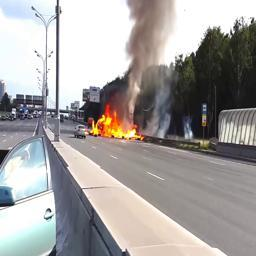fire: (91, 104, 144, 140)
